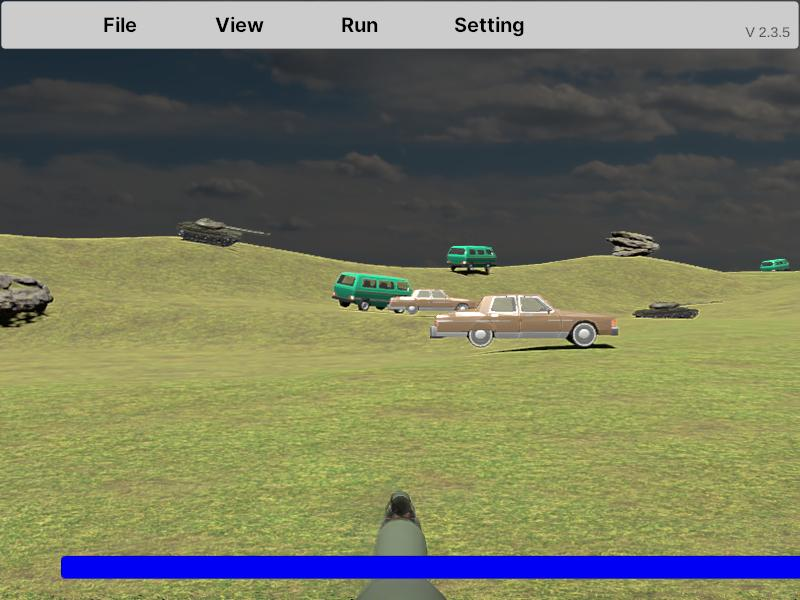Tank: (177, 218, 270, 247), (633, 300, 721, 321)
car: (429, 293, 620, 350), (332, 272, 412, 311), (389, 288, 474, 316), (446, 245, 497, 274)
